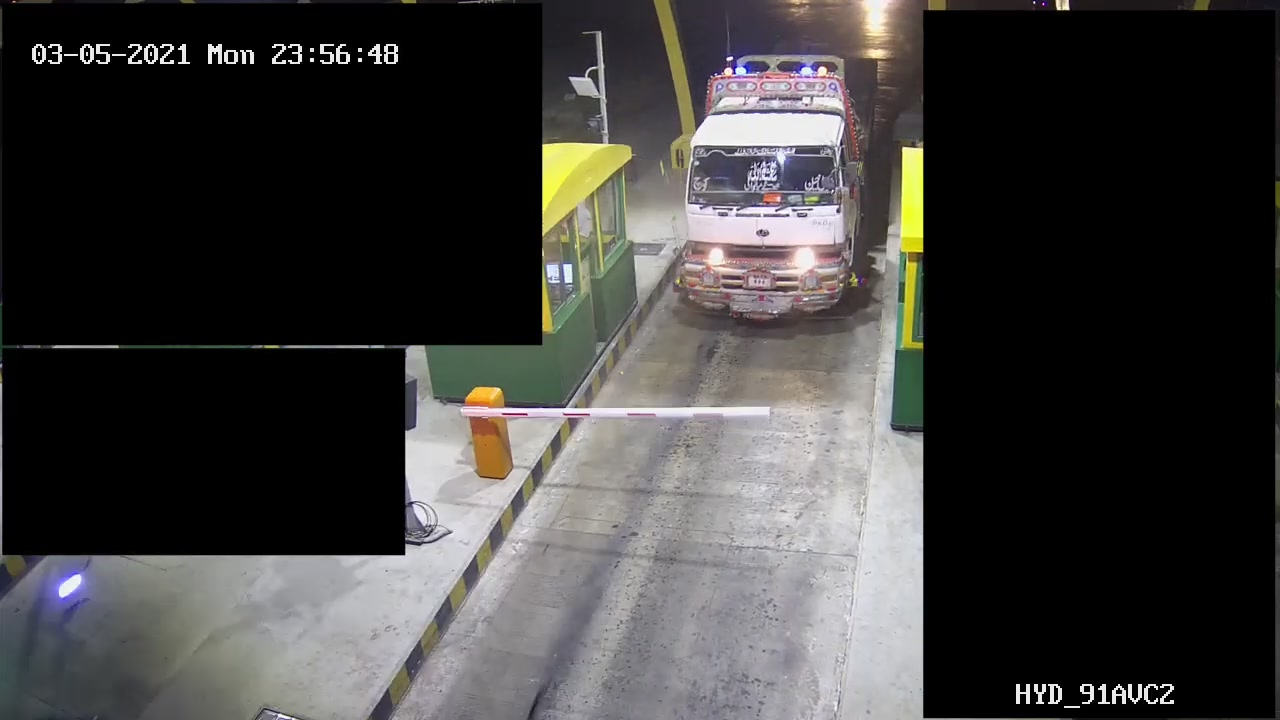F6: (677, 45, 888, 325)
